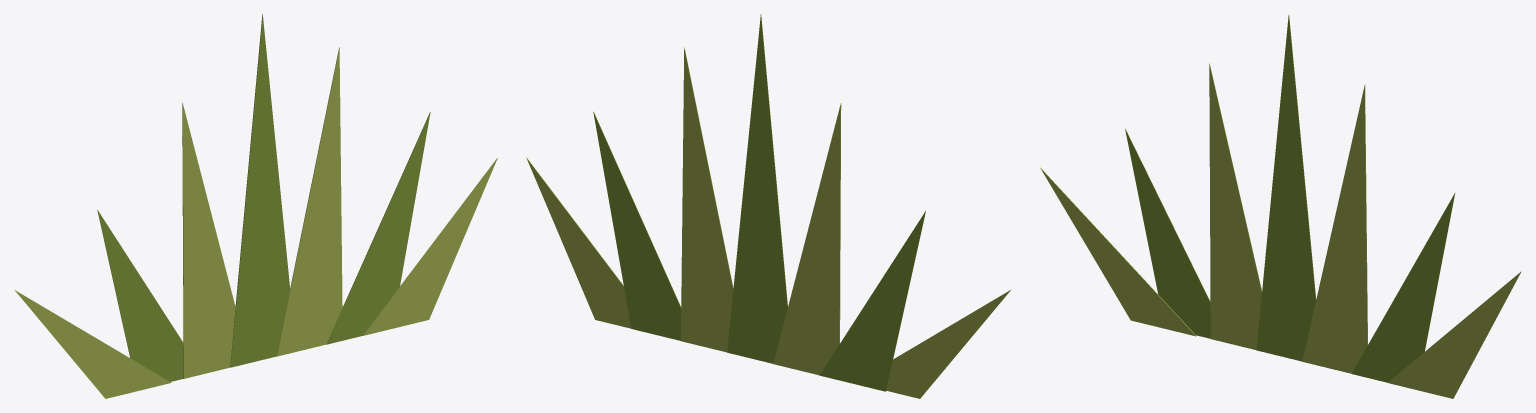
Rendered from grass_tuft.glb.
The picture shows the model from 3 angles, left to right: view 1: azimuth 30°, elevation 25°; view 2: azimuth 150°, elevation 25°; view 3: azimuth 330°, elevation 25°; orthographic projection.
Visible parts, largest first — view 1: grass_tuft; view 2: grass_tuft; view 3: grass_tuft.
Boxes of the visible parts, <box> form: grass_tuft: <box>15,14,497,398</box>; grass_tuft: <box>526,14,1011,398</box>; grass_tuft: <box>1040,14,1521,398</box>.
Bounding box in the file's own units: 1.46 × 1 × 0.008.
